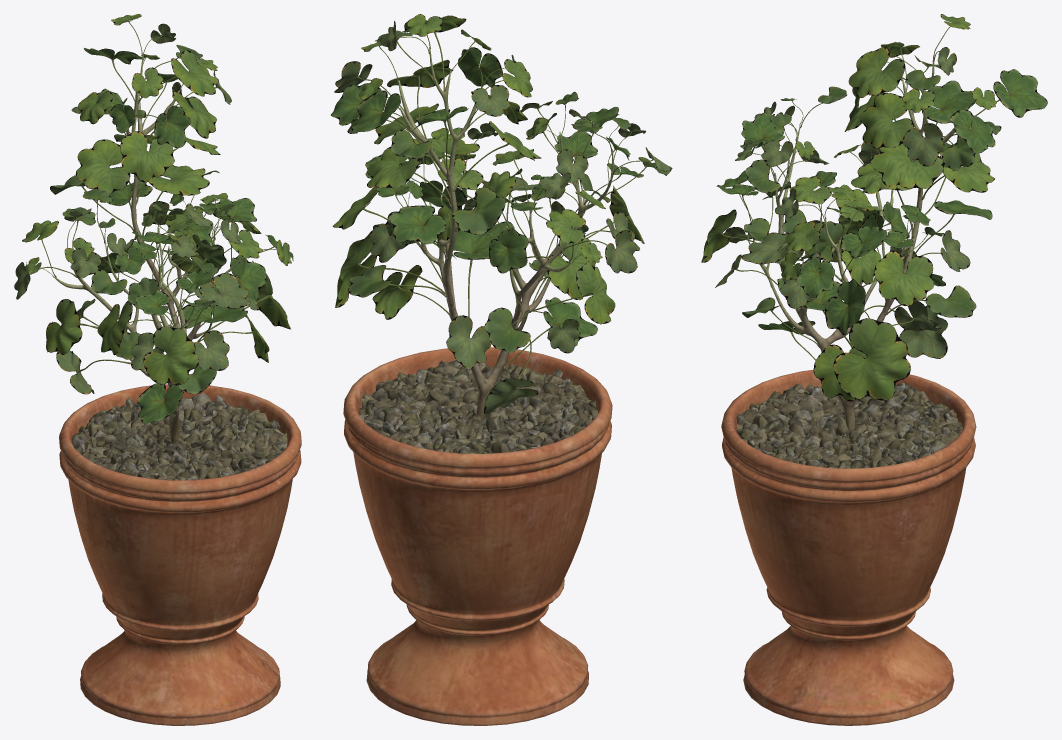
File: potted_plant_01.glb
The picture shows the model from 3 angles, left to right: view 1: azimuth 30°, elevation 25°; view 2: azimuth 150°, elevation 25°; view 3: azimuth 270°, elevation 25°; orthographic projection. The views are drawn at different scales.
Visible parts, largest first — view 1: potted_plant_01_pot, potted_plant_01_leaves, potted_plant_01_pebbles, potted_plant_01_stem; view 2: potted_plant_01_pot, potted_plant_01_leaves, potted_plant_01_pebbles, potted_plant_01_stem; view 3: potted_plant_01_pot, potted_plant_01_leaves, potted_plant_01_pebbles, potted_plant_01_stem.
Boxes of the visible parts, x1=… form: potted_plant_01_pot: x1=59, y1=384, x2=301, y2=725; potted_plant_01_leaves: x1=14, y1=14, x2=293, y2=423; potted_plant_01_pebbles: x1=71, y1=392, x2=287, y2=480; potted_plant_01_stem: x1=54, y1=54, x2=244, y2=443; potted_plant_01_pot: x1=343, y1=347, x2=612, y2=725; potted_plant_01_leaves: x1=331, y1=14, x2=672, y2=414; potted_plant_01_pebbles: x1=359, y1=360, x2=597, y2=453; potted_plant_01_stem: x1=398, y1=49, x2=613, y2=420; potted_plant_01_pot: x1=721, y1=369, x2=976, y2=725; potted_plant_01_leaves: x1=701, y1=14, x2=1047, y2=401; potted_plant_01_pebbles: x1=736, y1=382, x2=962, y2=468; potted_plant_01_stem: x1=752, y1=55, x2=967, y2=431.
Size of the model in its own units: 0.5872 by 1.34 by 0.6336.
Materials: 2 (2 with a texture image).
